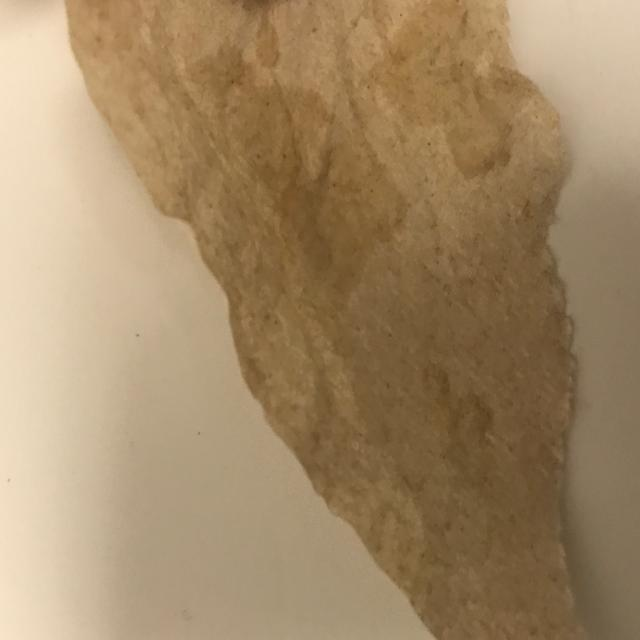trash: (64, 0, 584, 639)
